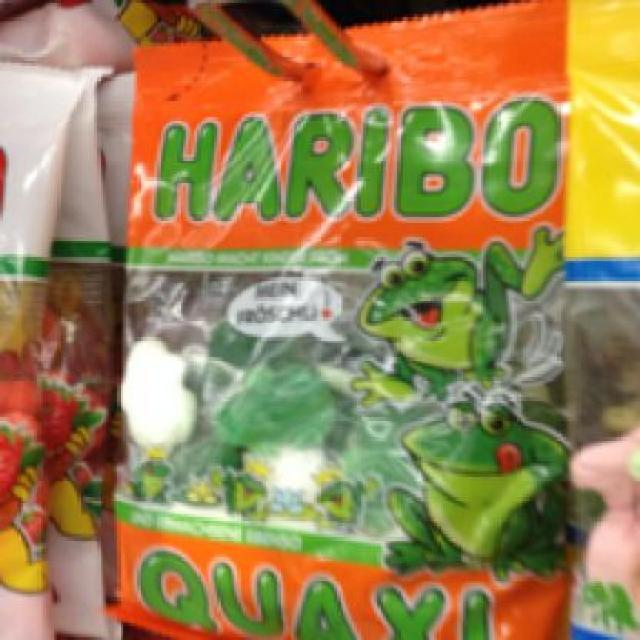Candy: (86, 34, 572, 637)
